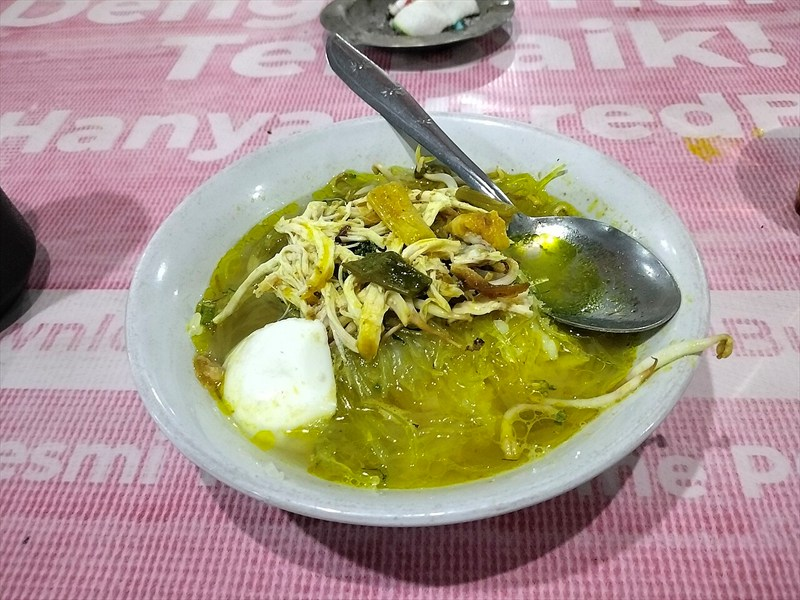Soto Ayam: (192, 109, 628, 511)
